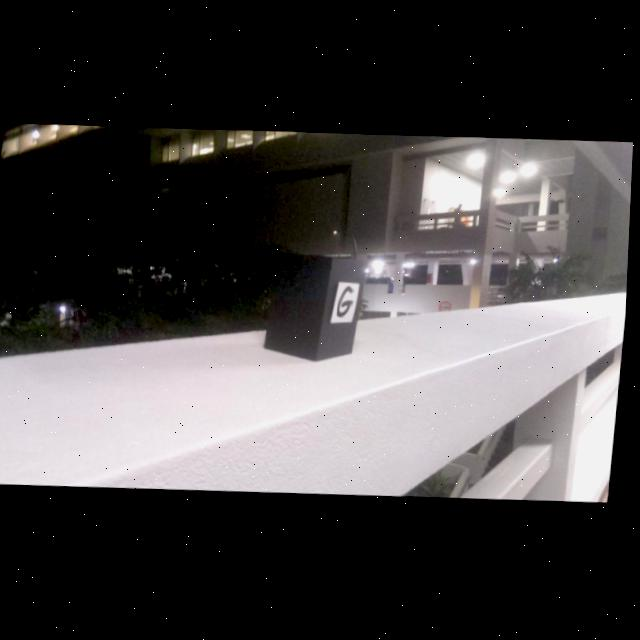G: (341, 288, 356, 319)
